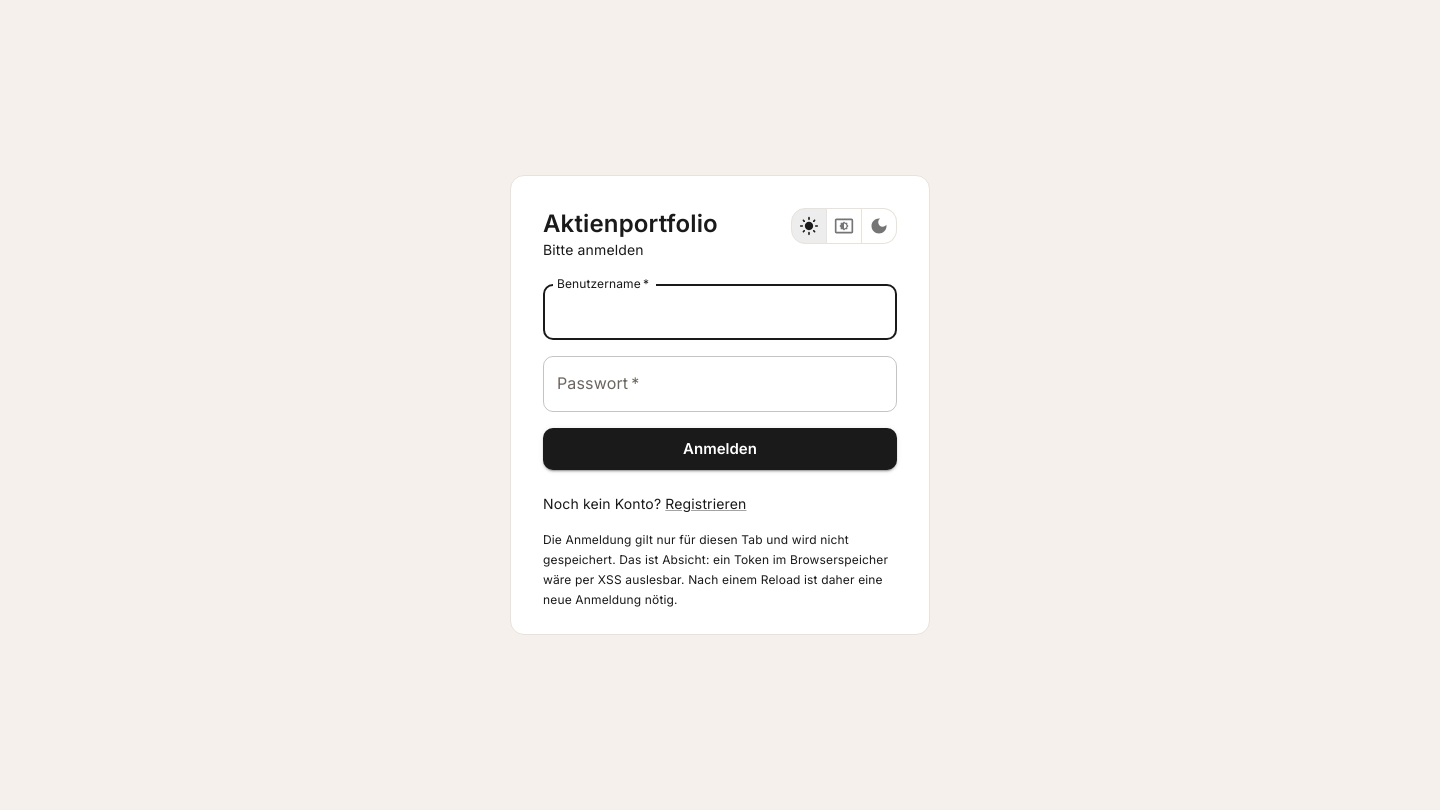
Test case: Mandanten-Übersicht für Manager › meldet eine gescheiterte Mandatsabfrage, ohne die eigenen Portfolios zu verstecken
This screenshot has width=1440, height=810.
Type "demo" into the field labelled "Benutzername *".
click(720, 312); type("demo")  # box [543,284,897,340]
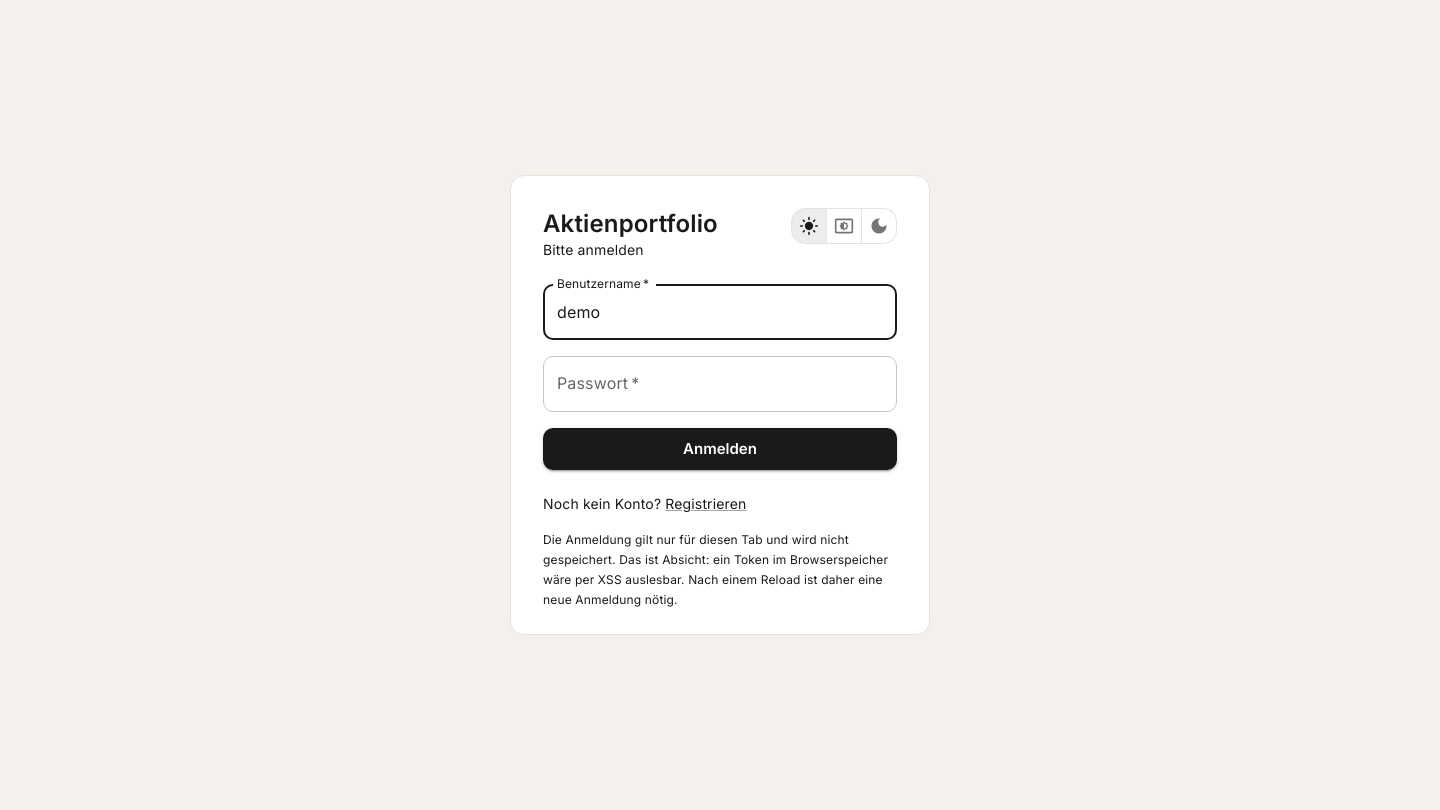
Type "demo1234" into the password field labelled "Passwort *".
click(720, 384); type("demo1234")  # box [543,356,897,412]
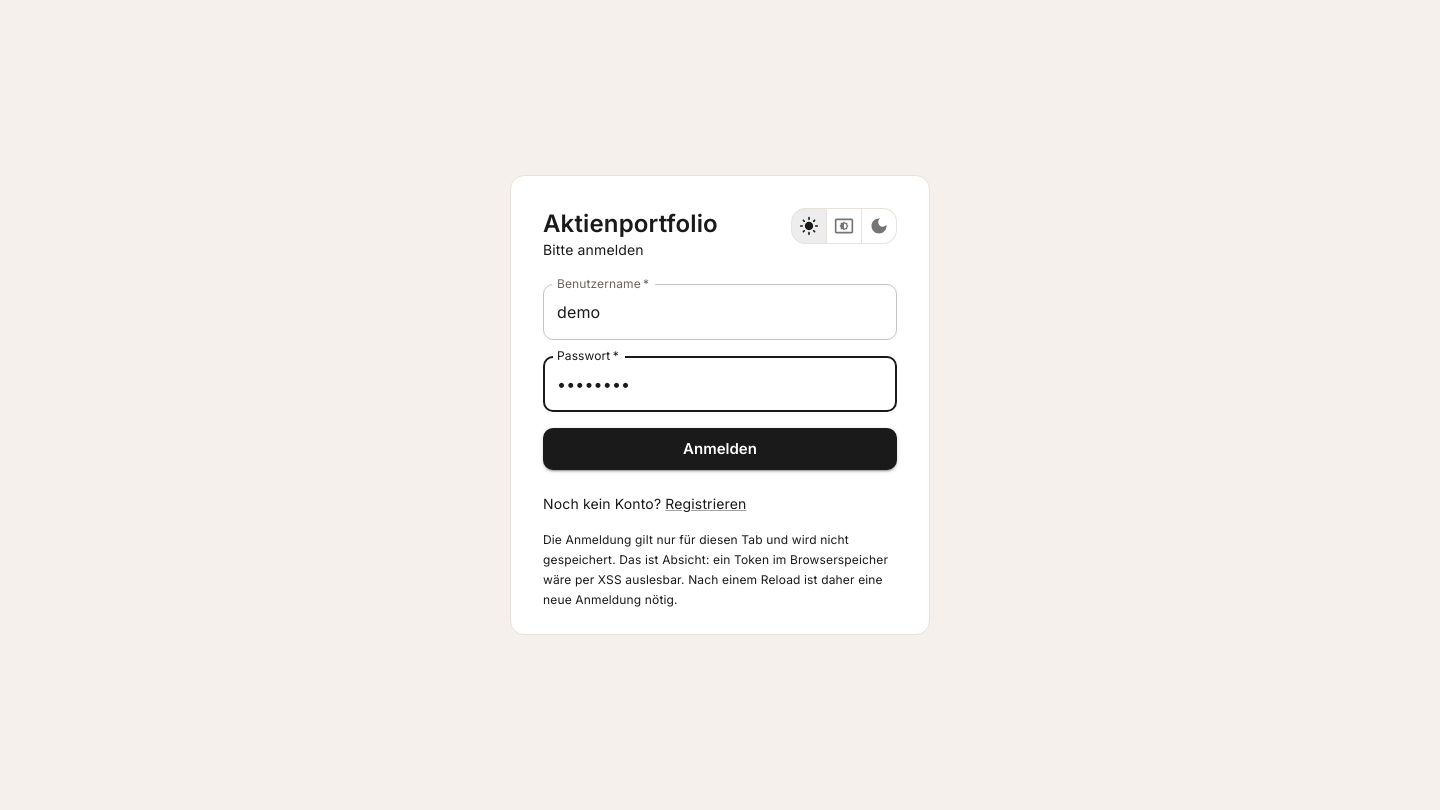
Click the button "Anmelden".
click(720, 449)  # box [543,428,897,470]
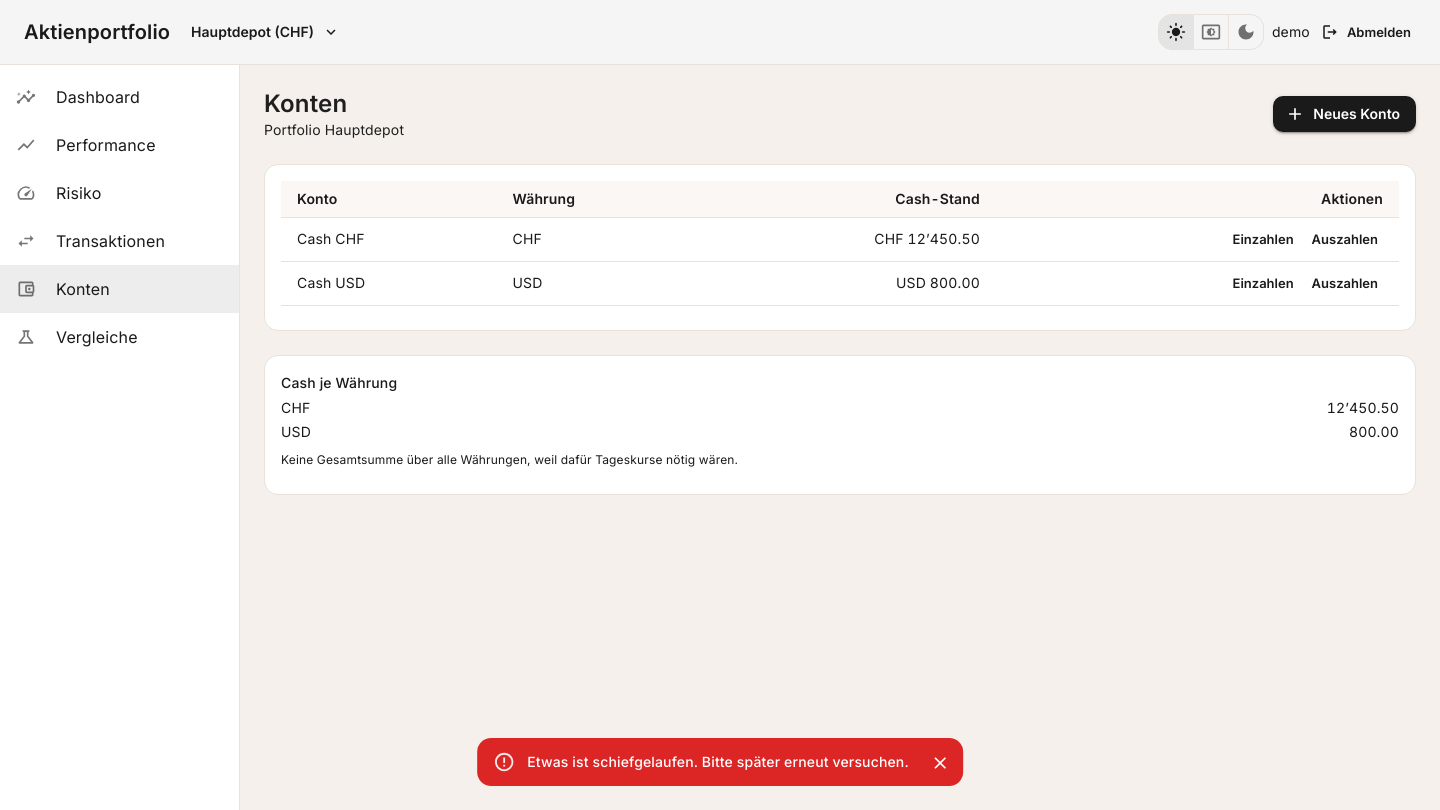
Check: the button "Abmelden" is shown, box [1318,17,1416,47]
Check: the text "Hauptdepot (CHF)" is shown, box [191,22,314,42]
Click the button with aria-label "Portfolio wählen".
click(264, 32)  # box [186,18,343,46]
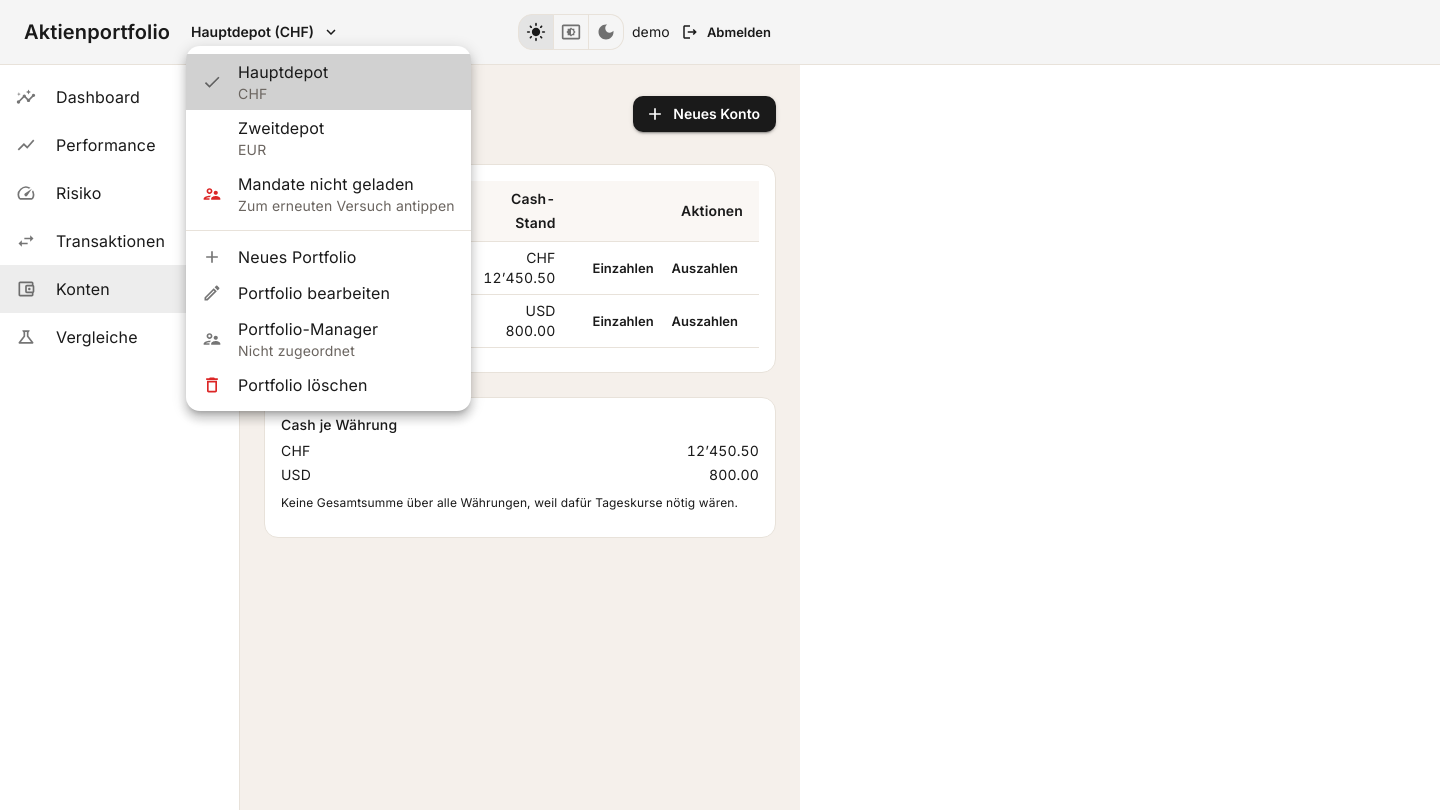
Check: the menu item "Mandate nicht geladen Zum erneuten Versuch antippen" is shown, box [186,166,471,222]
Check: the menu item "Hauptdepot CHF" is shown, box [186,54,471,110]
